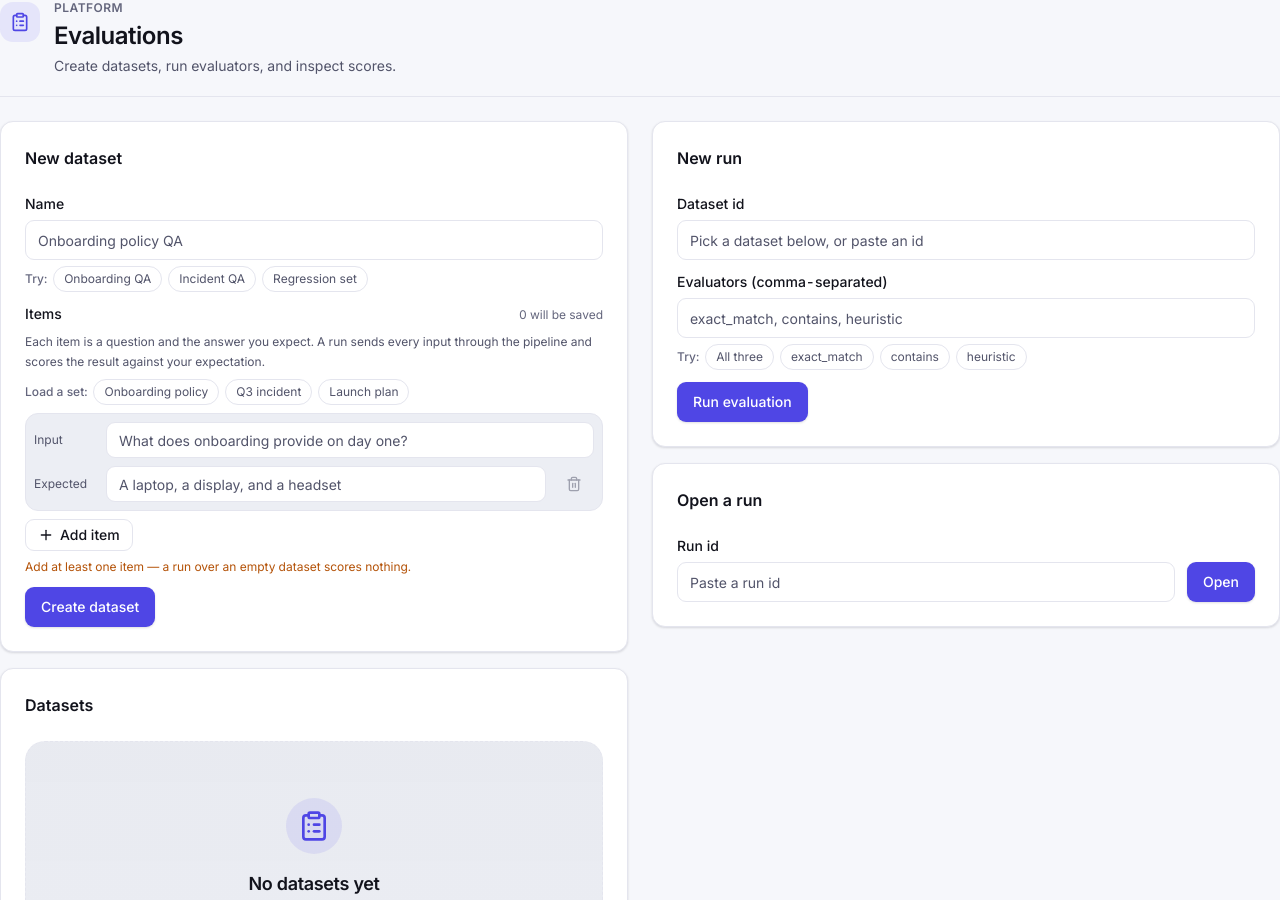
Scenario: EvaluationsView (MSW) › runs evaluators and shows aggregate + per-item scores (14.3)
Type "ds-1" into the field with test id "run-dataset-id". click: [966, 240]
box: [677,220,1255,260]
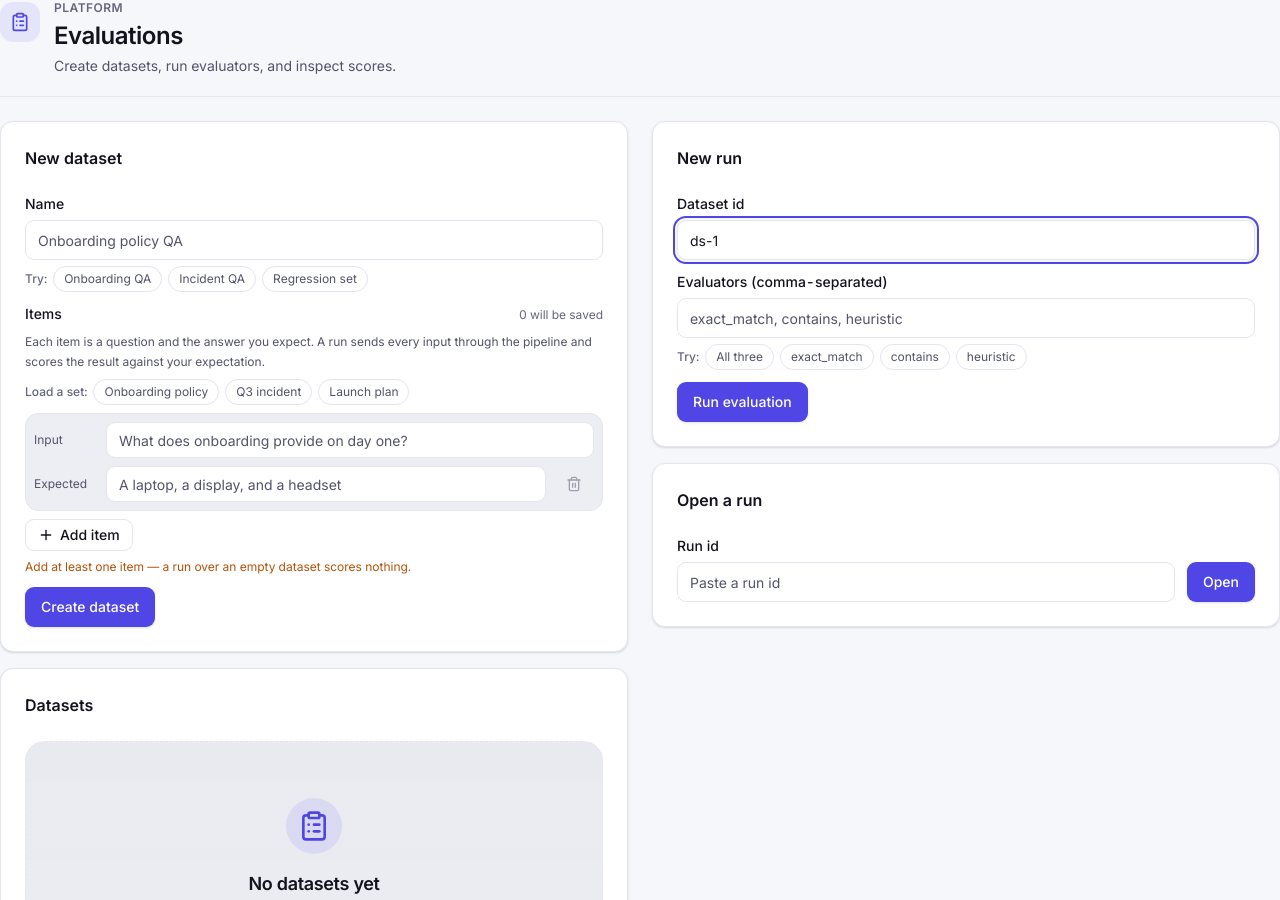
Type "exact_match" into the field with test id "run-evaluators". click: [966, 318]
box: [677,298,1255,338]
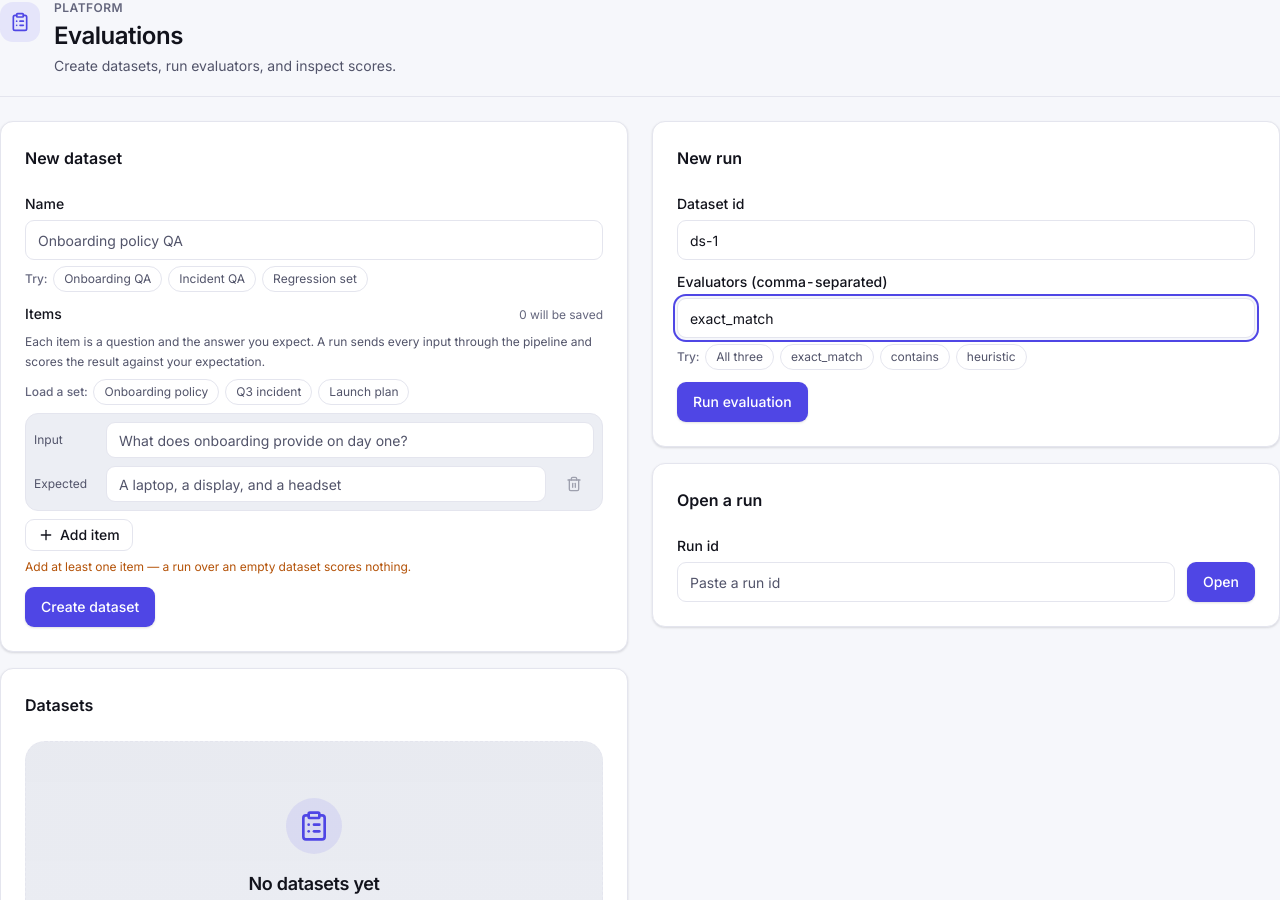
Click the button with test id "create-run-submit". click: [742, 402]
box: [677,382,808,422]
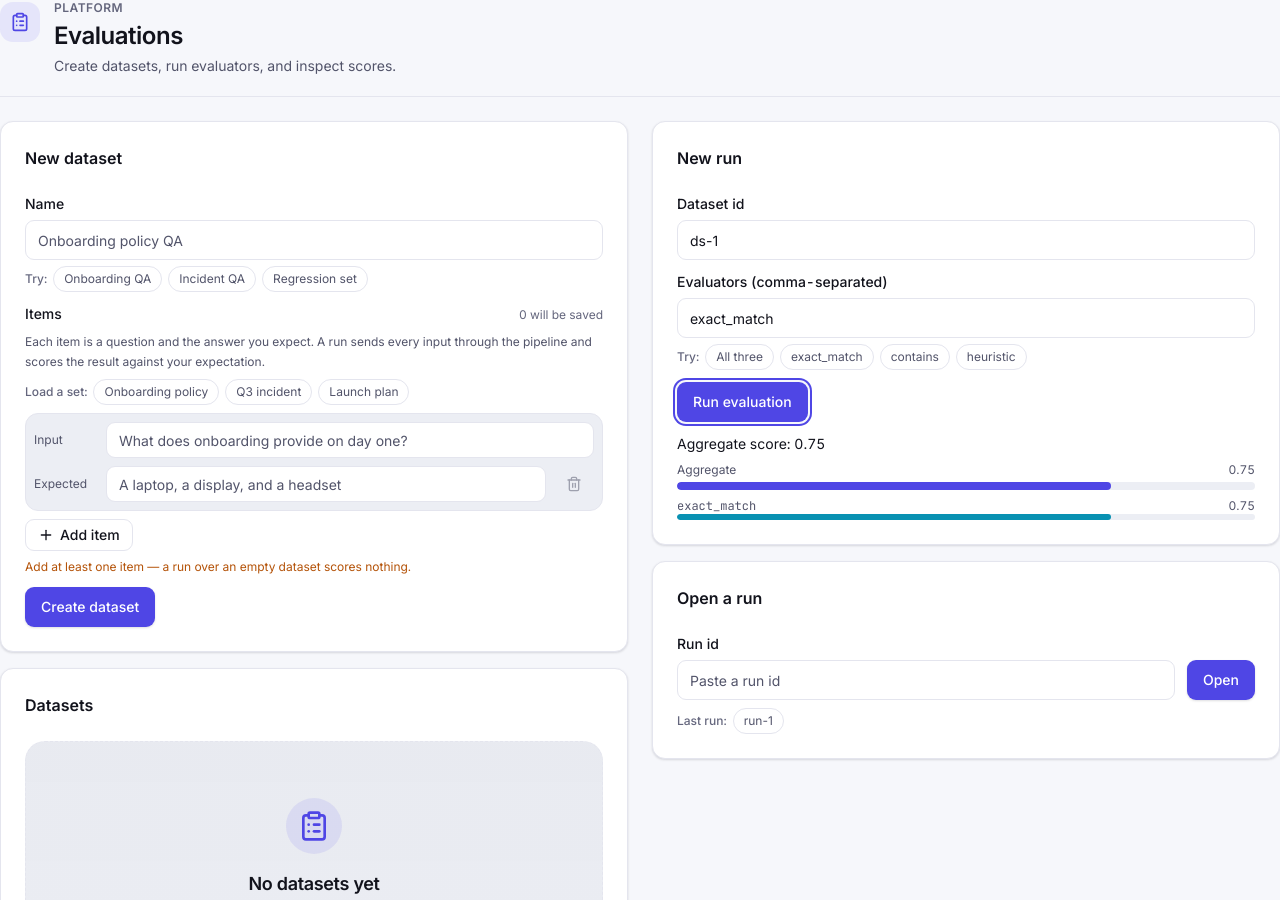
Expected: the element with test id "run-result" is shown, [677,434,1255,520]
Expected: the text with test id "run-aggregate" shows "0.75", [794,435,825,452]
Expected: the text with test id "run-result-scores-item-score-0" reads "0.75", [1228,498,1255,513]
